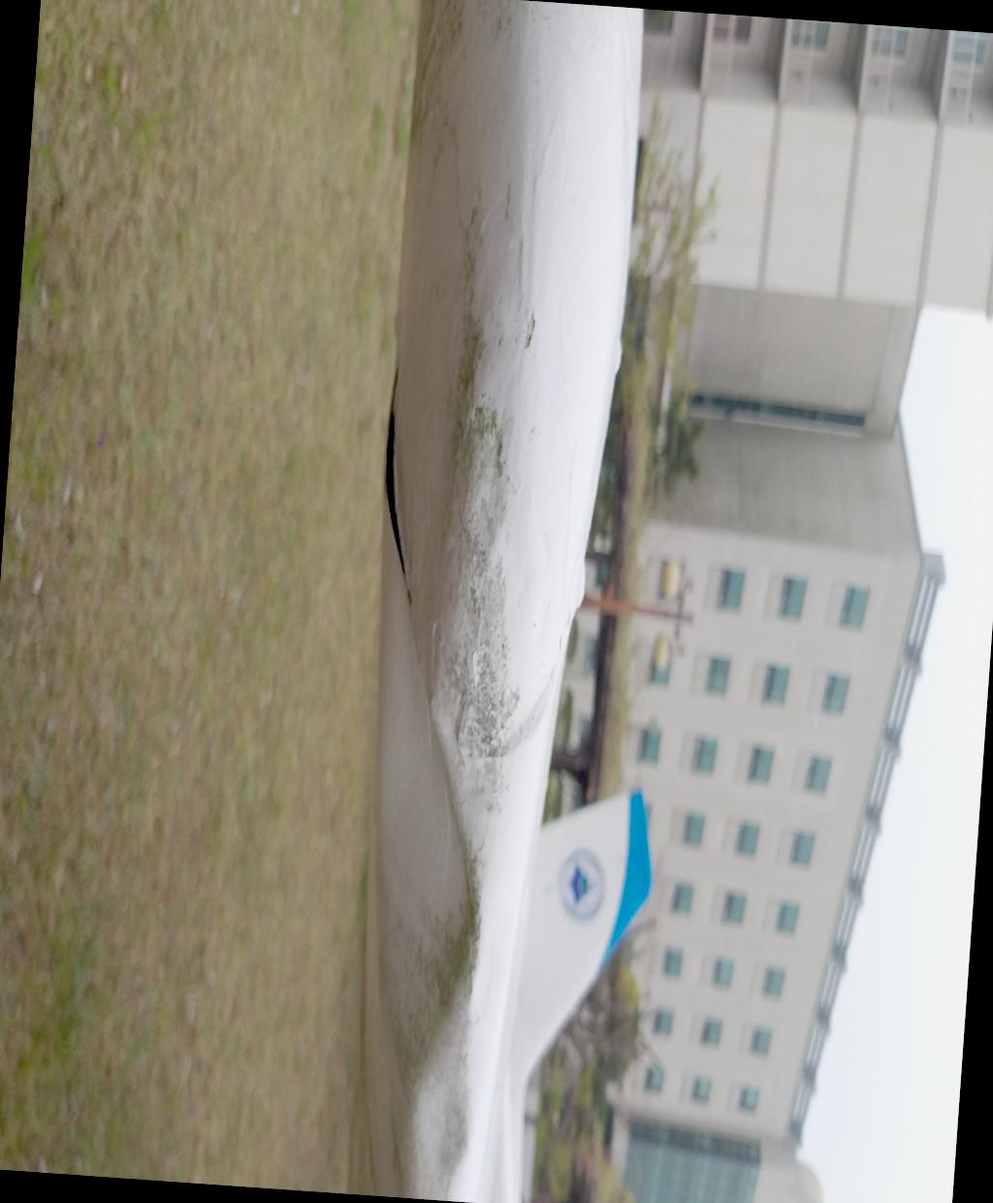dent: (643, 1033, 886, 1203), (880, 1056, 962, 1202)
